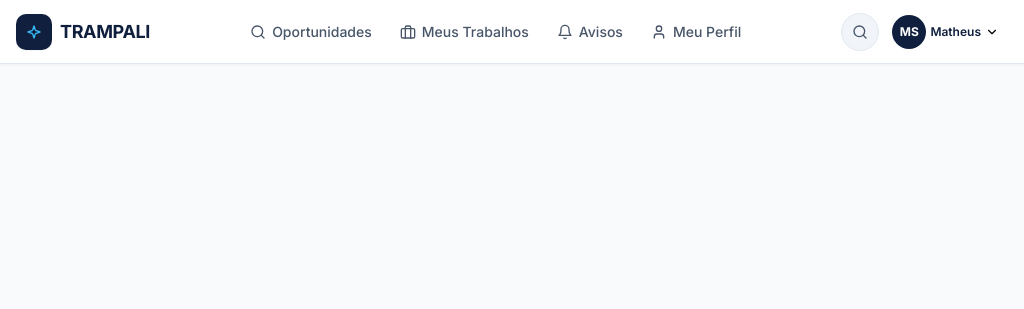
Test case: HeaderComponent › should toggle user menu when avatar button is clicked and display user data
The image size is (1024, 309).
Click the button with class "tp-user-avatar-btn": {"x": 948, "y": 32} [887, 10, 1008, 54]
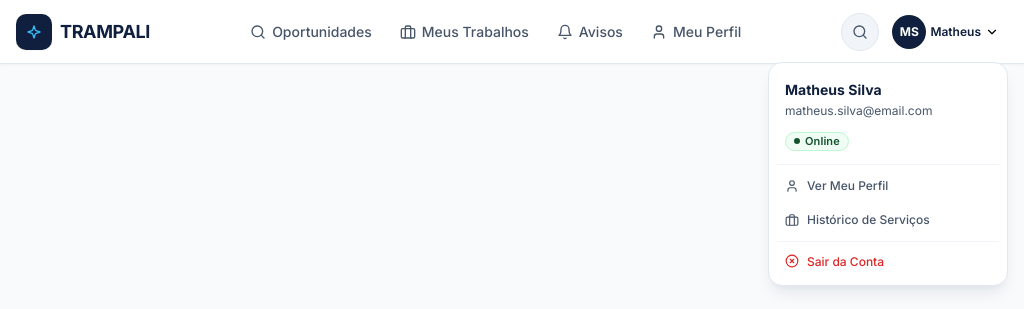
Now the element with class "tp-user-dropdown" is shown, box [768, 62, 1008, 286]
Now the element with class "tp-user-dropdown" shows "Matheus Silva", box [785, 80, 882, 98]
Now the element with class "tp-user-dropdown" shows "matheus.silva@email.com", box [785, 102, 932, 118]
